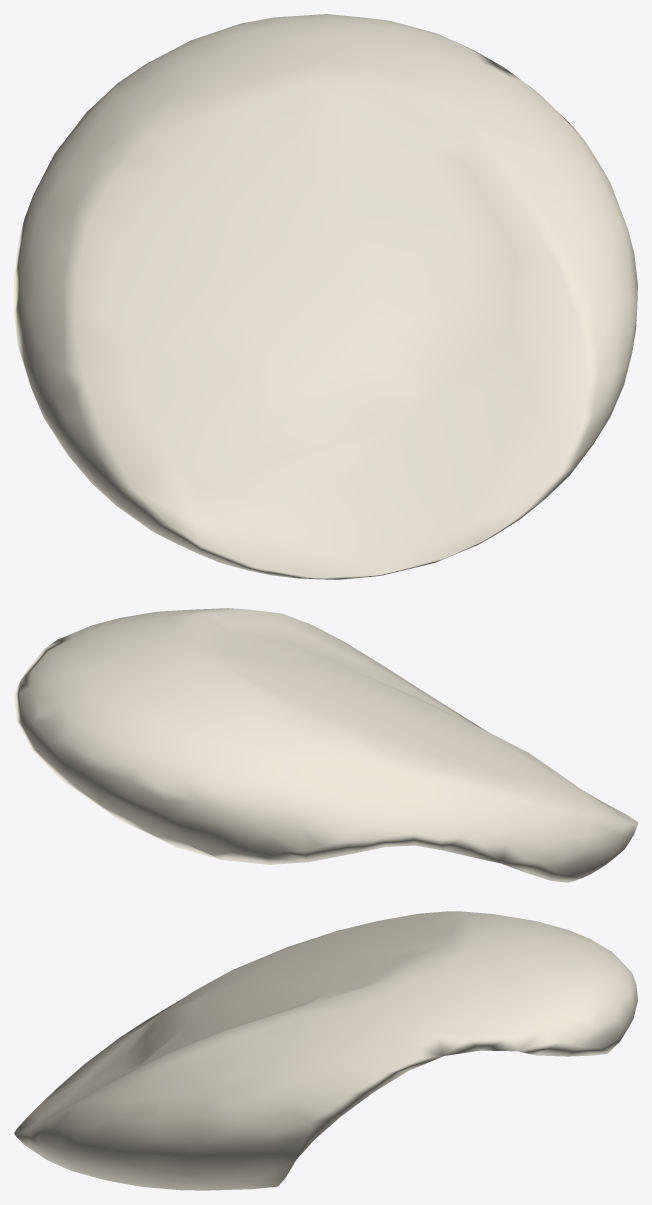
Rendered from fma56093_mm1057.glb.
3 views of the same model, one above another, from view 1: azimuth 30°, elevation 25°; view 2: azimuth 150°, elevation 25°; view 3: azimuth 270°, elevation 25° (orthographic). The views are drawn at different scales.
Visible parts, largest first — view 1: FMA56093_MM1057; view 2: FMA56093_MM1057; view 3: FMA56093_MM1057.
Boxes of the visible parts, left/top/right/bottom form: FMA56093_MM1057: left=14, top=14, right=637, bottom=579; FMA56093_MM1057: left=14, top=608, right=637, bottom=882; FMA56093_MM1057: left=14, top=911, right=637, bottom=1190.
Bounding box in the file's own units: 0.0047 × 0.00245 × 0.00529.
